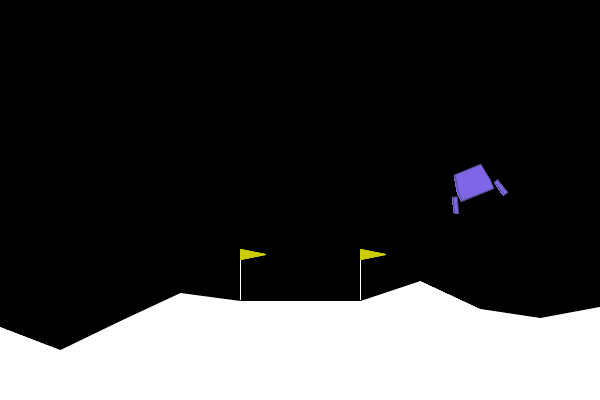lander: (439, 157, 509, 216)
